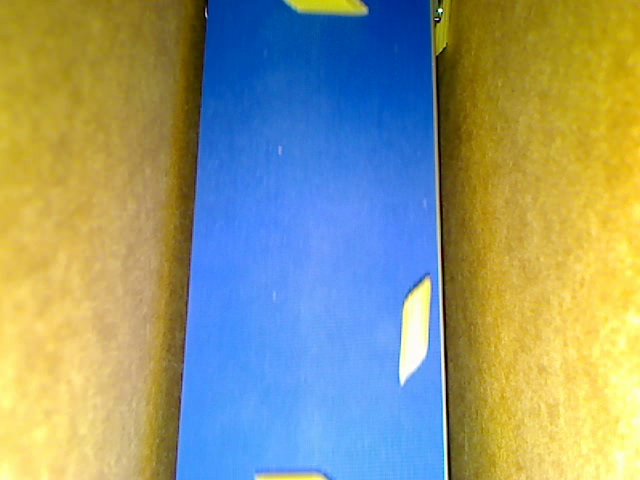penne: (395, 272, 431, 389), (284, 1, 372, 21), (433, 1, 454, 61), (250, 469, 330, 479)
